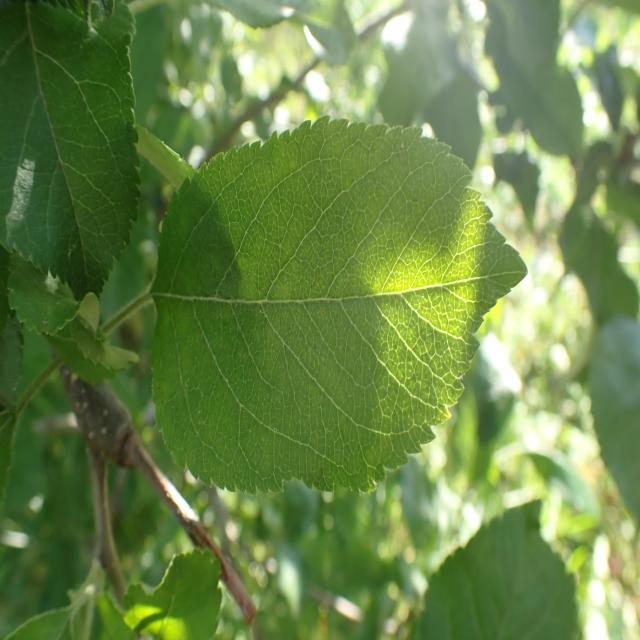healthy: (150, 114, 528, 496), (0, 0, 141, 306), (410, 497, 582, 640)
